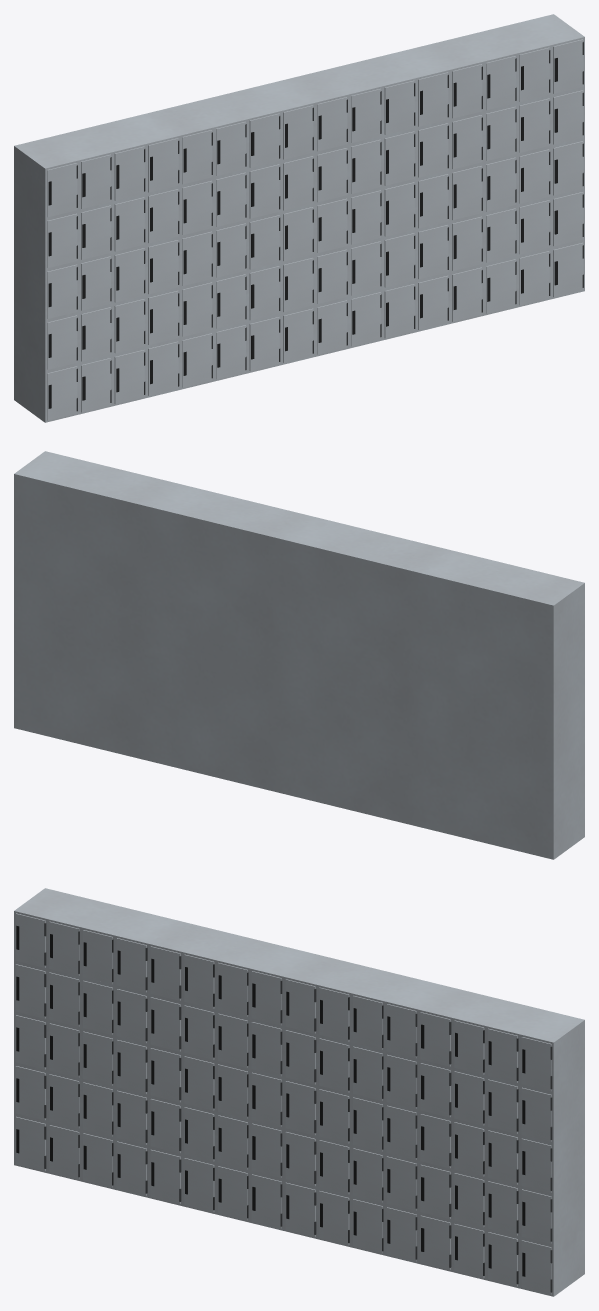
The model's file is SmallLockers.fbx.
The picture shows the model from 3 angles, top to bottom: view 1: azimuth 30°, elevation 25°; view 2: azimuth 150°, elevation 25°; view 3: azimuth 330°, elevation 25°; orthographic projection.
Visible parts, largest first — view 1: SmallLockers, SmallLockers.009, SmallLockers.068, SmallLockers.006, SmallLockers.027, SmallLockers.029, SmallLockers.045, SmallLockers.047, SmallLockers.048, SmallLockers.008, SmallLockers.049, SmallLockers.060 (+69 smaller); view 2: SmallLockers; view 3: SmallLockers, SmallLockers.020, SmallLockers.034, SmallLockers.043, SmallLockers.061, SmallLockers.064, SmallLockers.002, SmallLockers.016, SmallLockers.023, SmallLockers.037, SmallLockers.055, SmallLockers.079 (+69 smaller).
Boxes of the visible parts, x1,y1,x2,y2 form: SmallLockers: (14, 14, 584, 422); SmallLockers.009: (519, 251, 550, 305); SmallLockers.068: (114, 299, 145, 353); SmallLockers.006: (519, 98, 550, 152); SmallLockers.027: (384, 182, 415, 236); SmallLockers.029: (384, 284, 415, 338); SmallLockers.045: (249, 113, 280, 167); SmallLockers.047: (249, 215, 280, 269); SmallLockers.048: (249, 266, 280, 320); SmallLockers.008: (519, 200, 550, 254); SmallLockers.049: (249, 317, 280, 371); SmallLockers.060: (148, 341, 179, 395); SmallLockers: (14, 451, 584, 859); SmallLockers: (14, 888, 584, 1296); SmallLockers.020: (386, 1207, 417, 1261); SmallLockers.034: (285, 979, 316, 1033); SmallLockers.043: (251, 1022, 282, 1076); SmallLockers.061: (116, 1090, 147, 1144); SmallLockers.064: (116, 938, 147, 992); SmallLockers.002: (521, 1138, 552, 1192); SmallLockers.016: (420, 1063, 451, 1117); SmallLockers.023: (386, 1054, 417, 1108); SmallLockers.037: (285, 1132, 316, 1186); SmallLockers.055: (150, 946, 181, 1000); SmallLockers.079: (15, 1116, 46, 1170).
Bounding box in the file's own units: 4 × 1.8 × 0.4095.
